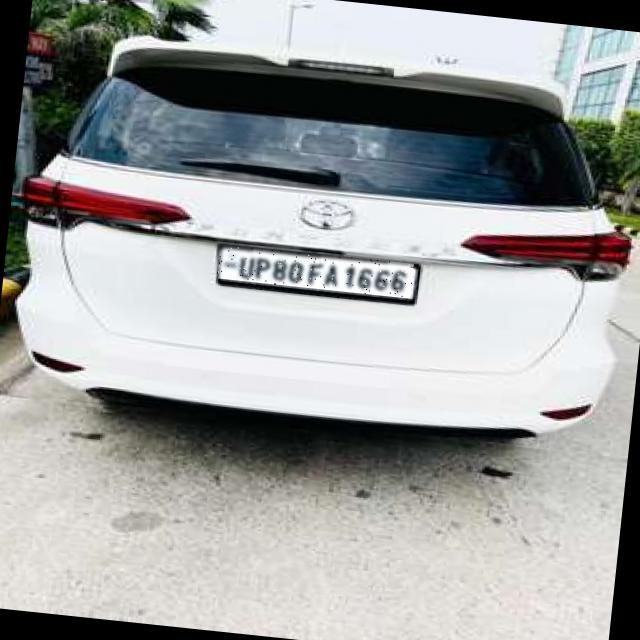Plate: (217, 244, 415, 299)
